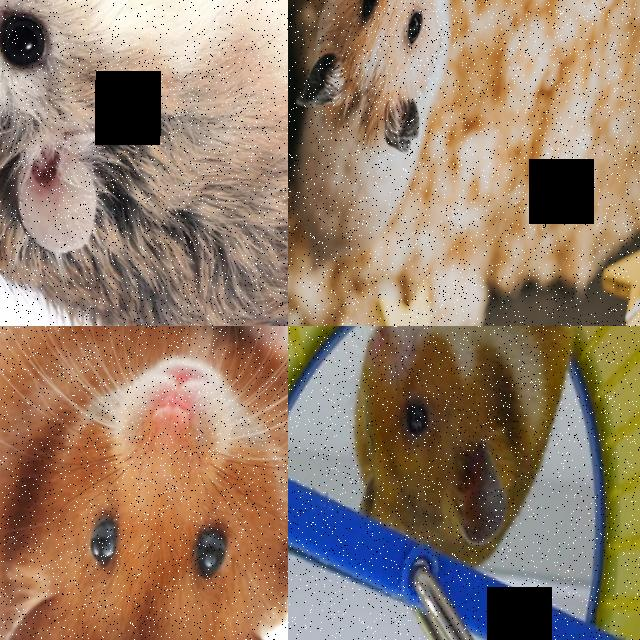hamster: (0, 0, 288, 326), (0, 326, 288, 640), (329, 326, 603, 553), (288, 0, 481, 260)
